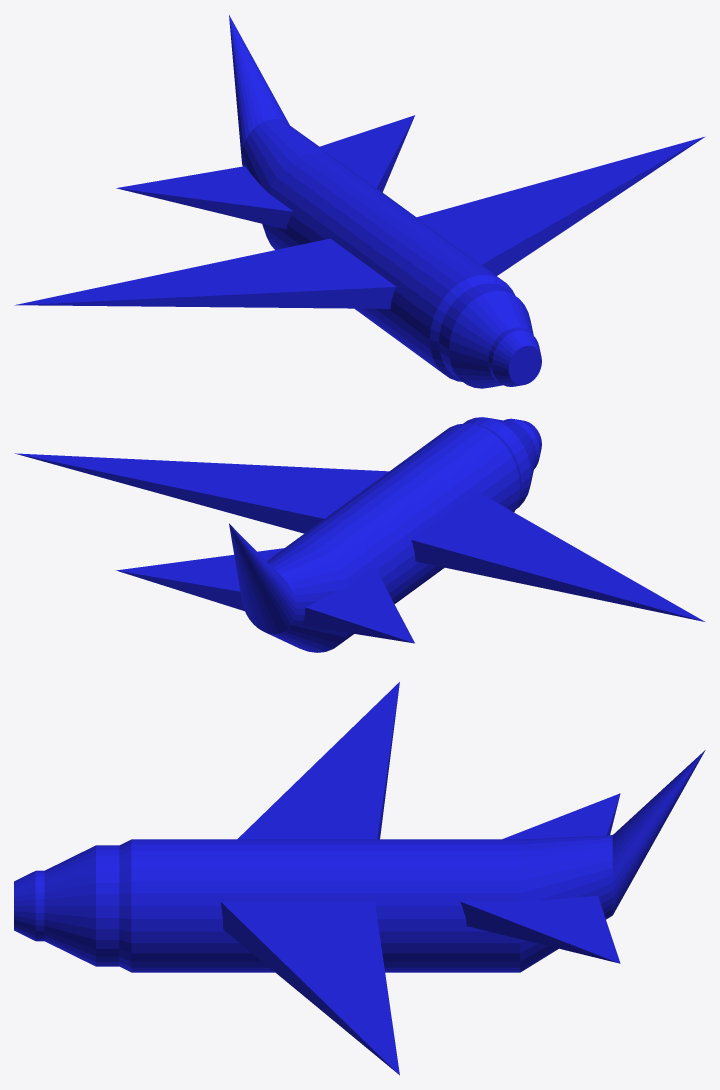
Rendered from whattheplane.fbx.
3 renders of one model, top to bottom at view 1: azimuth 30°, elevation 25°; view 2: azimuth 150°, elevation 25°; view 3: azimuth 270°, elevation 25°, orthographic. The views are drawn at different scales.
Visible parts, largest first — view 1: 실린더; view 2: 실린더; view 3: 실린더.
Boxes of the visible parts, bbox=[...] form: 실린더: bbox=[14, 15, 705, 388]; 실린더: bbox=[14, 417, 704, 652]; 실린더: bbox=[14, 682, 705, 1075].
Size of the model in its own units: 1377 by 355 by 1021.
